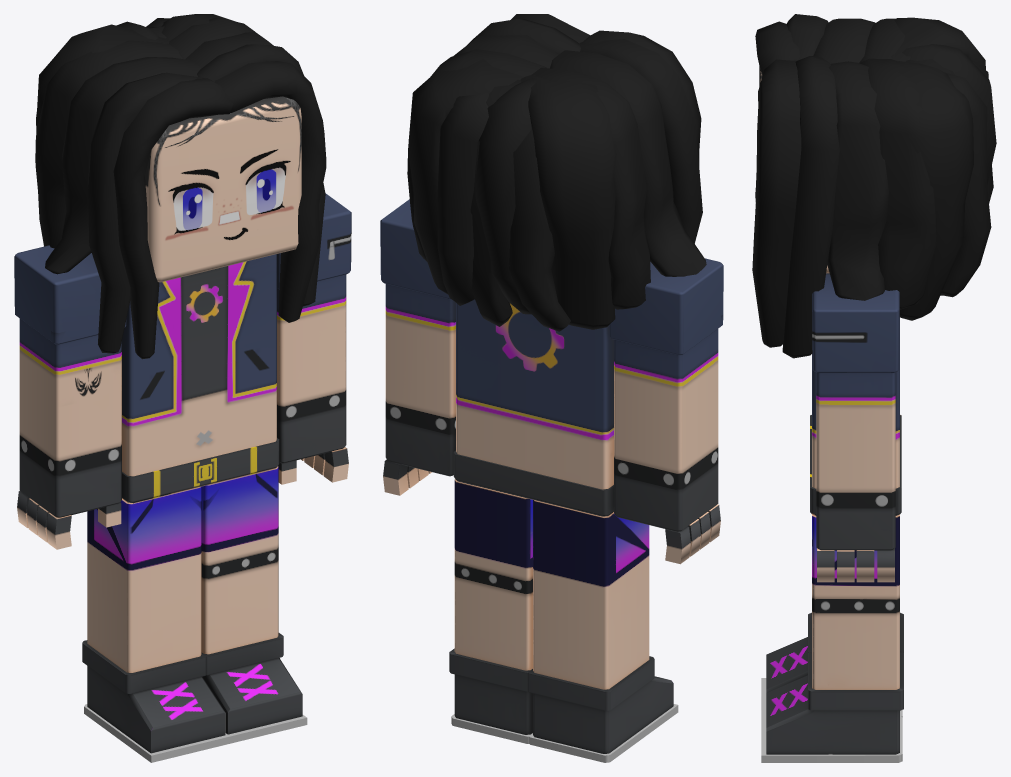
The model's file is Skin girl02.fbx.
3 views of the same model, side by side, from view 1: azimuth 30°, elevation 25°; view 2: azimuth 150°, elevation 25°; view 3: azimuth 270°, elevation 25° (orthographic). The views are drawn at different scales.
Visible parts, largest first — view 1: hair2, polySurface1, polySurface4, pPlane1, Head_1, shoe_R, shoe_L; view 2: hair2, polySurface1, polySurface4, pPlane1, shoe_R, shoe_L; view 3: hair2, polySurface1, shoe_L, polySurface4, shoe_R, pPlane1.
Boxes of the visible parts, box(x1,y1,x2,y2) form: hair2: box(35, 14, 326, 359); polySurface1: box(14, 193, 351, 549); polySurface4: box(87, 466, 278, 672); pPlane1: box(122, 254, 279, 503); Head_1: box(145, 96, 301, 282); shoe_R: box(82, 640, 231, 762); shoe_L: box(201, 633, 307, 743); hair2: box(407, 14, 706, 331); polySurface1: box(380, 199, 723, 564); polySurface4: box(454, 479, 649, 689); pPlane1: box(453, 299, 613, 516); shoe_R: box(527, 656, 678, 762); shoe_L: box(449, 648, 533, 743); hair2: box(752, 14, 996, 358); polySurface1: box(812, 274, 899, 582); shoe_L: box(761, 651, 903, 762); polySurface4: box(812, 514, 899, 689); shoe_R: box(761, 612, 903, 717); pPlane1: box(810, 273, 901, 515).
Bounding box in the file's own units: 8.63 × 18.42 × 5.98.
